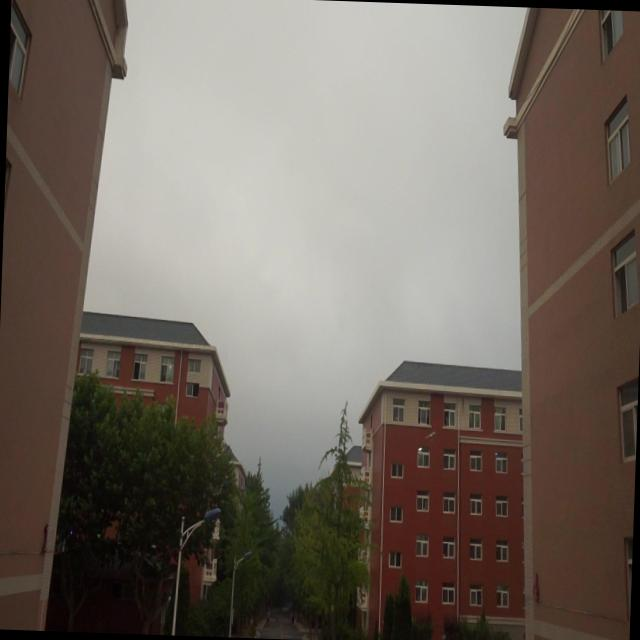drone: (422, 427, 438, 448)
